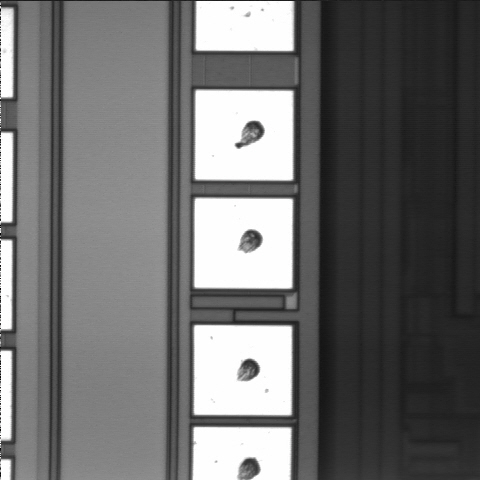pad: (194, 198, 293, 289), (195, 90, 293, 180), (194, 325, 292, 415)
